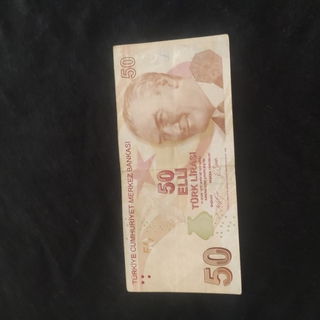50TLFront: (112, 33, 242, 295)
